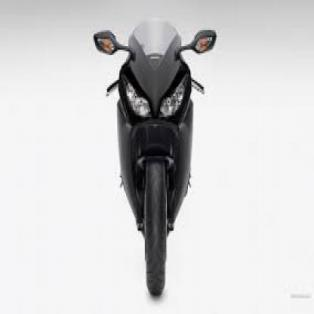Motocicleta: (90, 16, 218, 303)
